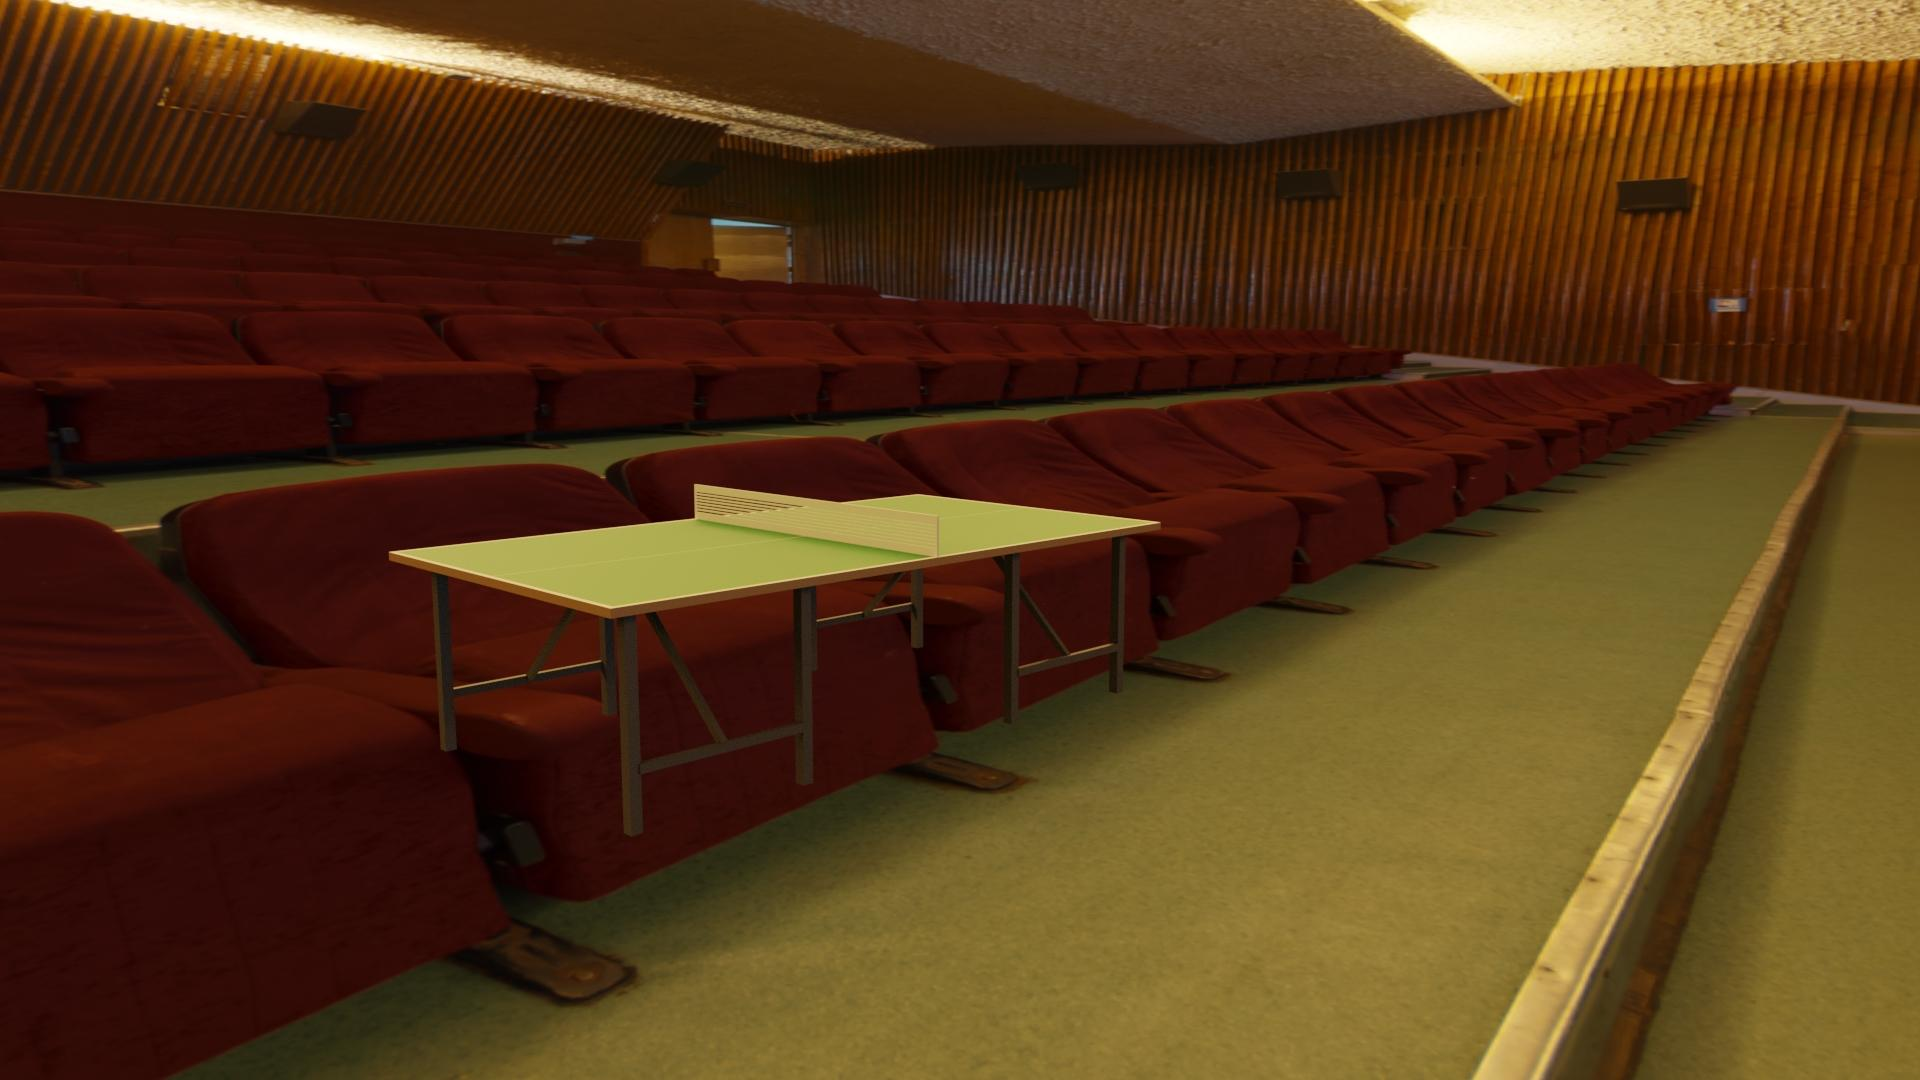table: (397, 495, 1154, 607)
